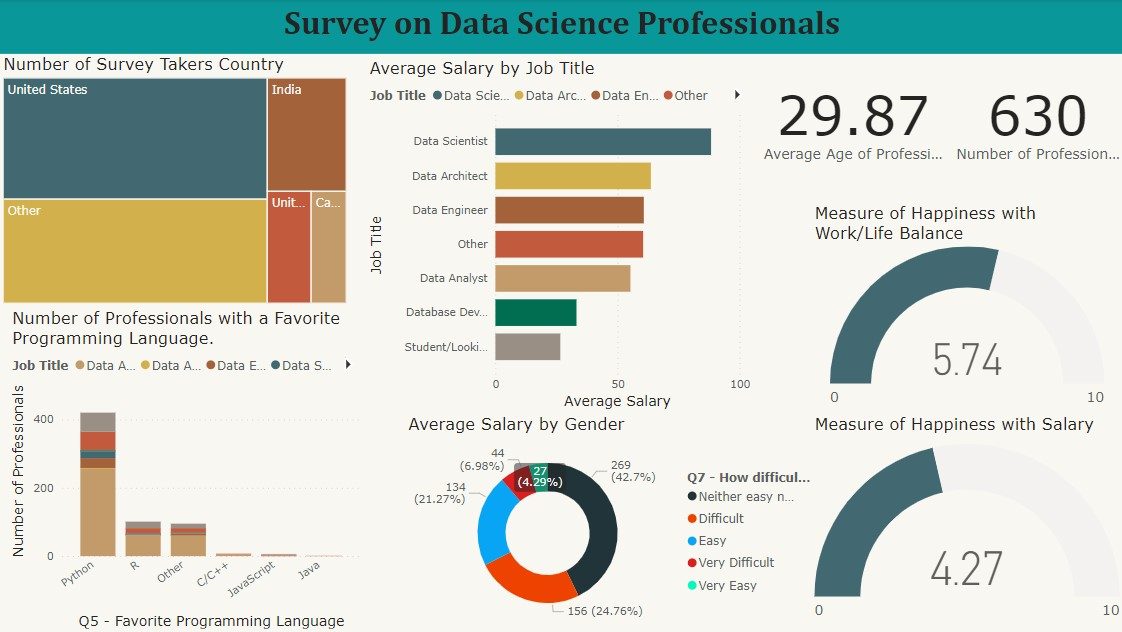

This screenshot's page, from the dashboard's own definition file:
{"tool":"powerbi","page":{"name":"Page 1","canvas":[1280,720],"ordinal":0},"visuals":[{"type":"textbox","box":[9.6,0,1271,63.1],"z":0},{"type":"card","fields":{"Values":["Avg(Data Professional Survey.Q10 - Current Age)"]},"box":[860,62.9,222.9,151.4],"z":1000},{"type":"card","fields":{"Values":["Count(Data Professional Survey.Unique ID)"]},"box":[1082.9,64.3,197.1,150],"z":2000},{"type":"barChart","title":"Average Salary by Job Title","fields":{"Y":["Avg(Data Professional Survey.Average Salary)"],"Category":["Data Professional Survey.Q1 - Which Title Best Fits your Current Role?.1"],"Series":["Data Professional Survey.Q1 - Which Title Best Fits your Current Role?.1"]},"box":[417.1,67.1,442.9,404.3],"z":3000},{"type":"columnChart","title":"Number of Professionals with a Favorite Programming Language.","fields":{"Category":["Data Professional Survey.Q5 - Favorite Programming Language.1"],"Y":["CountNonNull(Data Professional Survey.Unique ID)"],"Series":["Data Professional Survey.Q1 - Which Title Best Fits your Current Role?.1"]},"box":[10,351.4,407.1,368.6],"z":4000},{"type":"treemap","title":"Number of Survey Takers Country","fields":{"Group":["Data Professional Survey.Q11 - Which Country do you live in?.1"],"Values":["Count(Data Professional Survey.Unique ID)"]},"box":[0,62.9,400,288.6],"z":5000},{"type":"gauge","title":"Measure of Happiness with Work/Life Balance","fields":{"Y":["Avg(Data Professional Survey.Q6 - How Happy are you in your Current Position with the following? (Work/Life Balance))"],"MinValue":["Min(Data Professional Survey.Q6 - How Happy are you in your Current Position with the following? (Work/Life Balance))1"],"MaxValue":["Max(Data Professional Survey.Q6 - How Happy are you in your Current Position with the following? (Work/Life Balance))2"]},"box":[922.9,231.4,357.1,240],"z":6000},{"type":"gauge","title":"Measure of Happiness with Salary","fields":{"Y":["Avg(Data Professional Survey.Q6 - How Happy are you in your Current Position with the following? (Salary))"],"MinValue":["Min(Data Professional Survey.Q6 - How Happy are you in your Current Position with the following? (Salary))"],"MaxValue":["Max(Data Professional Survey.Q6 - How Happy are you in your Current Position with the following? (Salary))1"]},"box":[922.9,471.4,357.1,248.6],"z":7000},{"type":"donutChart","title":"Average Salary by Gender","fields":{"Category":["Data Professional Survey.Q7 - How difficult was it for you to break into Data?"],"Y":["CountNonNull(Data Professional Survey.Q7 - How difficult was it for you to break into Data?)"]},"box":[460,471.4,462.9,248.6],"z":8000}]}

Visuals, with their boxes in screenshot pixels (x1, y1, x2, y2), scaled from the page's 1280x720 canvas onto the 1122x632 screenshot:
textbox: (left=8, top=0, right=1121, bottom=55)
card - Avg(Data Professional Survey.Q10 - Current Age): (left=754, top=55, right=949, bottom=188)
card - Count(Data Professional Survey.Unique ID): (left=949, top=56, right=1121, bottom=188)
"Average Salary by Job Title" barChart: (left=366, top=59, right=754, bottom=414)
"Number of Professionals with a Favorite Programming Language." columnChart: (left=9, top=308, right=366, bottom=631)
"Number of Survey Takers Country" treemap: (left=0, top=55, right=351, bottom=309)
"Measure of Happiness with Work/Life Balance" gauge: (left=809, top=203, right=1121, bottom=414)
"Measure of Happiness with Salary" gauge: (left=809, top=414, right=1121, bottom=631)
"Average Salary by Gender" donutChart: (left=403, top=414, right=809, bottom=631)
